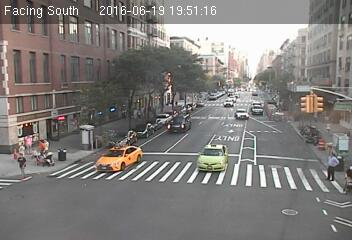neg: (113, 73, 135, 102), (184, 57, 205, 85), (93, 138, 114, 166), (196, 189, 216, 215), (139, 180, 157, 204), (195, 151, 213, 174), (275, 188, 293, 211), (156, 130, 173, 153), (146, 68, 163, 91), (235, 167, 252, 189), (67, 188, 84, 210), (201, 114, 217, 136), (296, 56, 312, 78), (54, 86, 70, 107), (271, 135, 286, 156), (67, 48, 81, 68), (260, 90, 274, 109), (244, 49, 258, 68), (77, 124, 91, 142), (56, 148, 69, 166), (234, 105, 247, 122), (289, 91, 302, 108)
pos: (320, 151, 343, 182), (14, 152, 32, 176), (37, 137, 50, 155), (24, 133, 35, 147)
